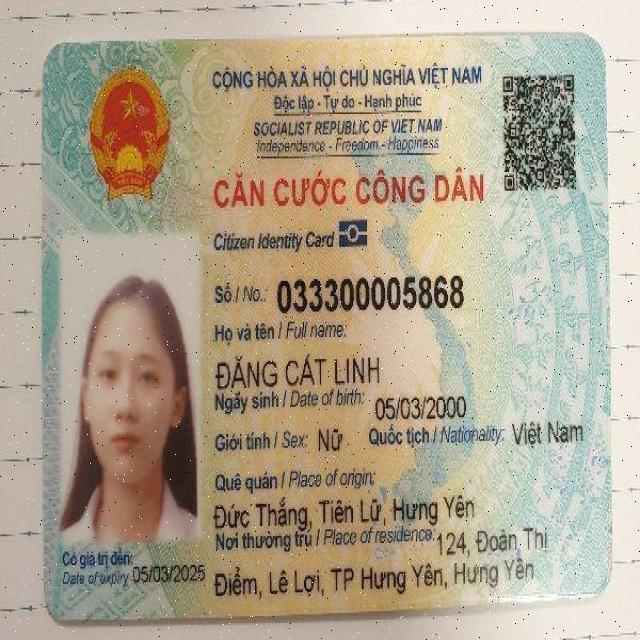current_place: (210, 557, 537, 600), (436, 524, 550, 558)
dob: (372, 394, 470, 421)
expire_date: (132, 558, 205, 586)
gender: (313, 421, 350, 460)
id: (274, 276, 469, 313)
name: (213, 350, 382, 391)
nationality: (505, 408, 586, 447)
origin_place: (212, 498, 476, 529)
